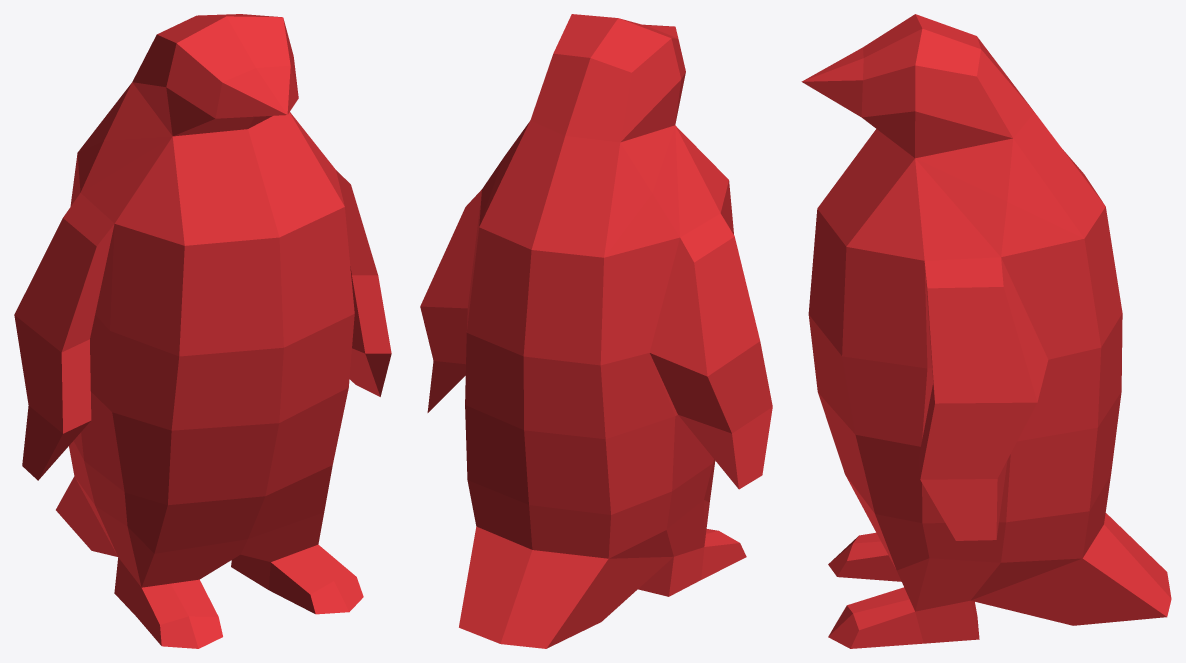
The model's file is pinguin.fbx.
The picture shows the model from 3 angles, left to right: view 1: azimuth 30°, elevation 25°; view 2: azimuth 150°, elevation 25°; view 3: azimuth 270°, elevation 25°; orthographic projection. The views are drawn at different scales.
Parts seen in each view (by area): view 1: Pinguin; view 2: Pinguin; view 3: Pinguin.
Part boxes in pixels (bbox=[...]): Pinguin: bbox=[14, 14, 391, 648]; Pinguin: bbox=[420, 14, 772, 648]; Pinguin: bbox=[801, 14, 1171, 648].
Bounding box in the file's own units: 83.69 × 135 × 79.31.
